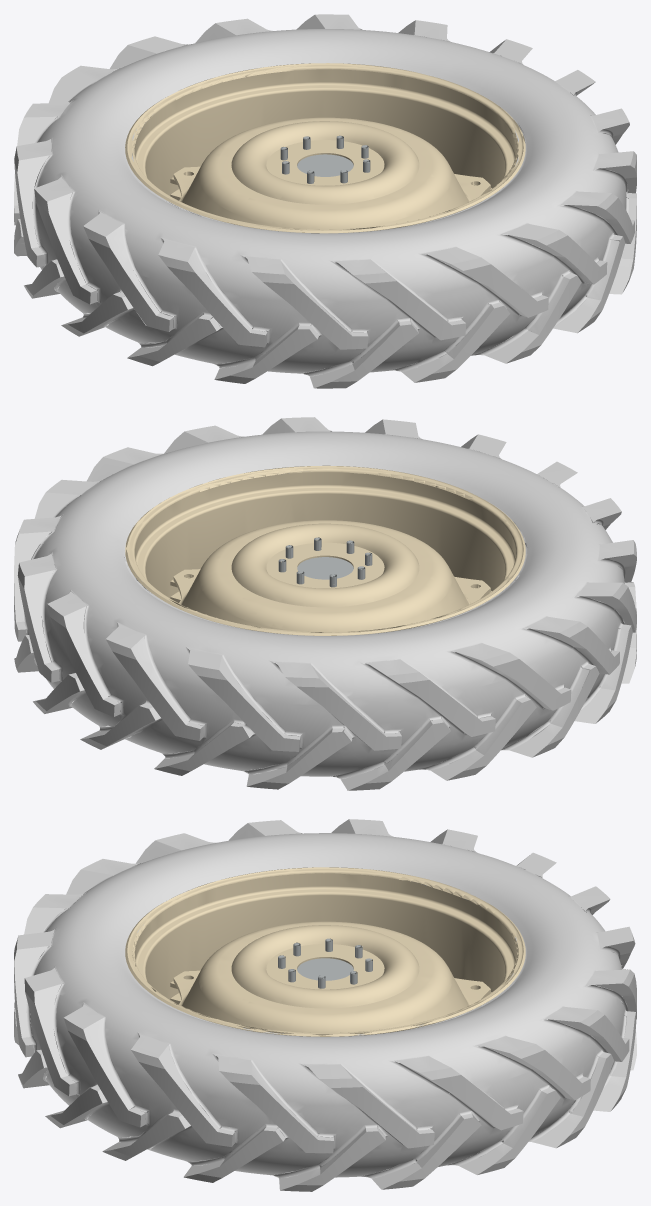
The model's file is rear_left_wheel_visual.obj.
The picture shows the model from 3 angles, top to bottom: view 1: azimuth 30°, elevation 25°; view 2: azimuth 150°, elevation 25°; view 3: azimuth 270°, elevation 25°; orthographic projection.
Parts seen in each view (by area): view 1: rear_left_wheel_visual; view 2: rear_left_wheel_visual; view 3: rear_left_wheel_visual.
Boxes of the visible parts, bbox=[...] form: rear_left_wheel_visual: bbox=[14, 14, 636, 388]; rear_left_wheel_visual: bbox=[14, 417, 636, 790]; rear_left_wheel_visual: bbox=[14, 819, 636, 1191].
Bounding box in the file's own units: 1.43 × 0.3248 × 1.43.
